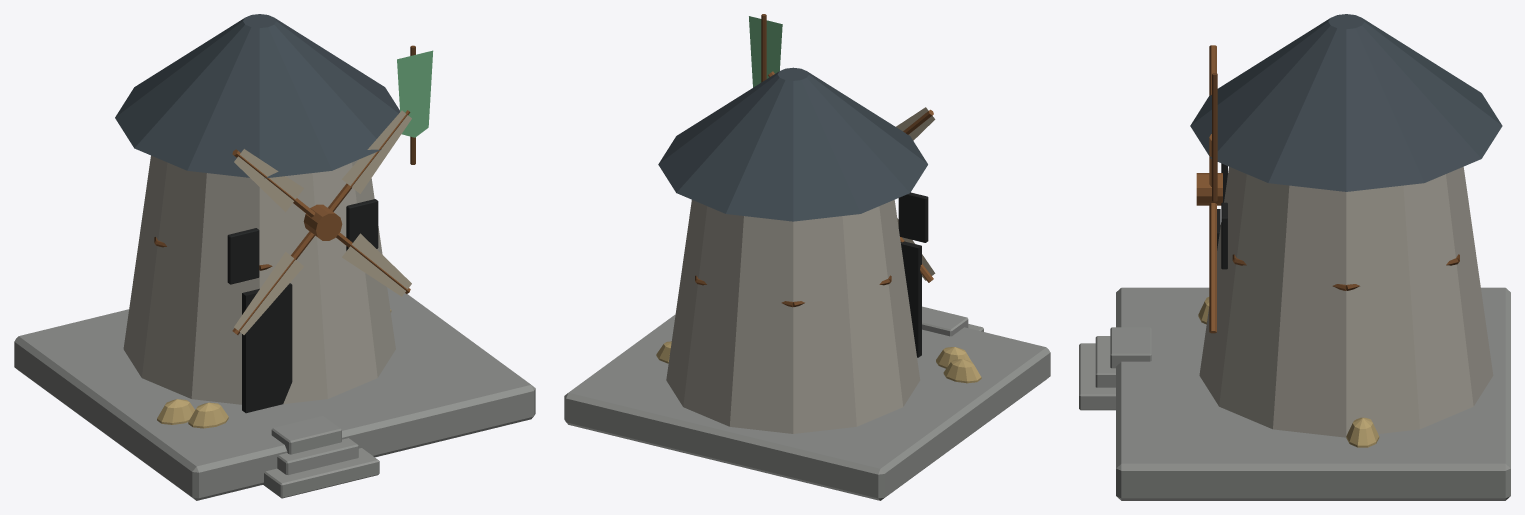
Rendered from edificio-farm-e2-hb6iA8Ka.glb.
The picture shows the model from 3 angles, left to right: view 1: azimuth 30°, elevation 25°; view 2: azimuth 150°, elevation 25°; view 3: azimuth 270°, elevation 25°; orthographic projection. The views are drawn at different scales.
Parts seen in each view (by area): view 1: molino_e2_envolvente, rotor_molino, molino_e2_team_color; view 2: molino_e2_envolvente, molino_e2_team_color, rotor_molino; view 3: molino_e2_envolvente, rotor_molino.
Boxes of the visible parts, x1,y1,x2,y2 form: molino_e2_envolvente: (14,14,535,500); rotor_molino: (232,110,411,334); molino_e2_team_color: (397,50,433,137); molino_e2_envolvente: (564,14,1050,500); molino_e2_team_color: (749,16,782,87); rotor_molino: (768,71,935,282); molino_e2_envolvente: (1079,14,1510,500); rotor_molino: (1196,45,1222,333).
Bounding box in the file's own units: 52 × 52.5 × 52.5.
